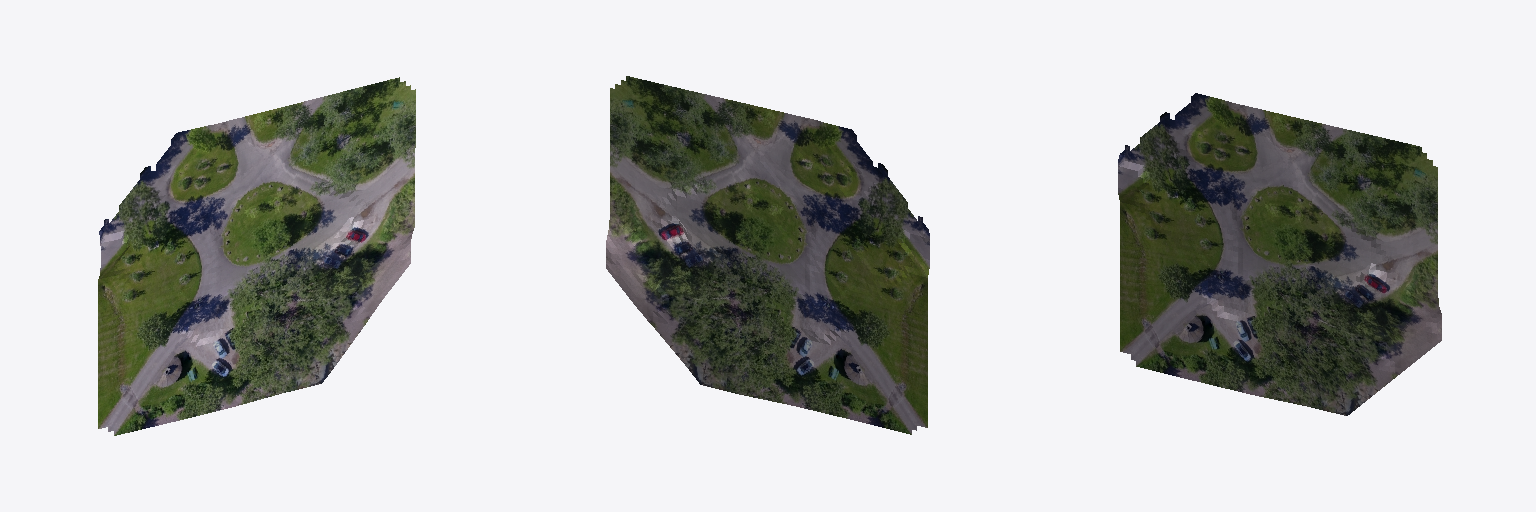
3 renders of one model, left to right at view 1: azimuth 30°, elevation 25°; view 2: azimuth 150°, elevation 25°; view 3: azimuth 330°, elevation 25°, orthographic.
Bounding box in the file's own units: 72.96 × 63.55 × 2.91.
1 materials, 1 textured.